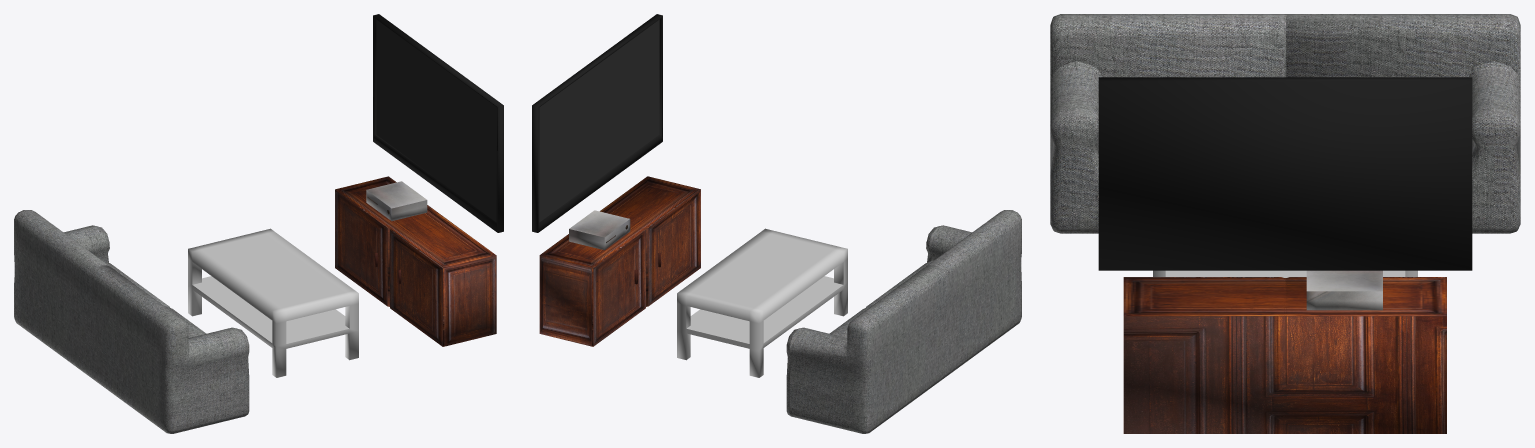
The model's file is Livingroom.fbx.
3 views of the same model, side by side, from view 1: azimuth 30°, elevation 25°; view 2: azimuth 150°, elevation 25°; view 3: azimuth 270°, elevation 25° (orthographic). The views are drawn at different scales.
Parts seen in each view (by area): view 1: Couch, TVtable, MiddleTable, ScreenTV, TV, Console, PillowsCouch; view 2: Couch, TVtable, MiddleTable, ScreenTV, TV, Console, PillowsCouch; view 3: TV, TVtable, Couch, Console, MiddleTable.
Boxes of the visible parts, <box> form: Couch: <box>14,210,249,433</box>; TVtable: <box>335,176,496,346</box>; MiddleTable: <box>188,228,358,377</box>; ScreenTV: <box>376,19,496,222</box>; TV: <box>373,14,503,232</box>; Console: <box>366,181,427,220</box>; PillowsCouch: <box>101,260,206,337</box>; Couch: <box>786,210,1021,433</box>; TVtable: <box>539,176,700,346</box>; MiddleTable: <box>677,228,847,377</box>; ScreenTV: <box>539,19,659,222</box>; TV: <box>532,14,662,232</box>; Console: <box>569,210,630,250</box>; PillowsCouch: <box>829,260,934,337</box>; TV: <box>1098,77,1472,270</box>; TVtable: <box>1123,277,1446,433</box>; Couch: <box>1050,14,1520,233</box>; Console: <box>1306,270,1382,310</box>; MiddleTable: <box>1153,270,1417,277</box>.
Size of the model in its own units: 355 by 226 by 274.
